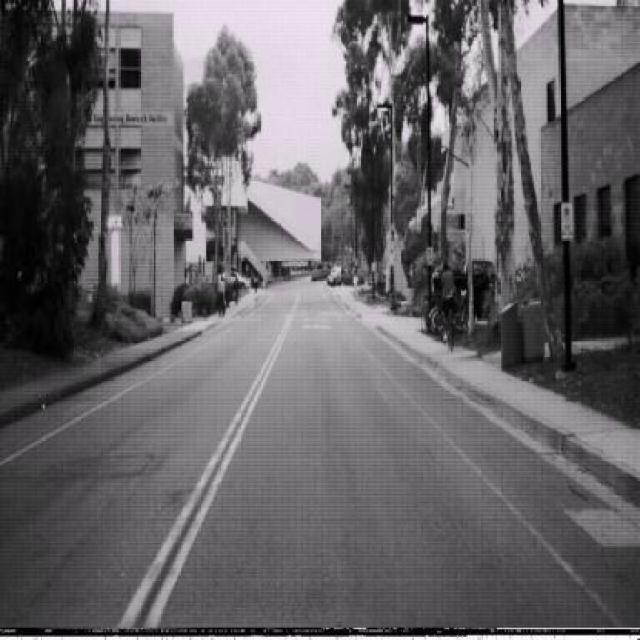pedestrianCrossing: (385, 223, 399, 252)
